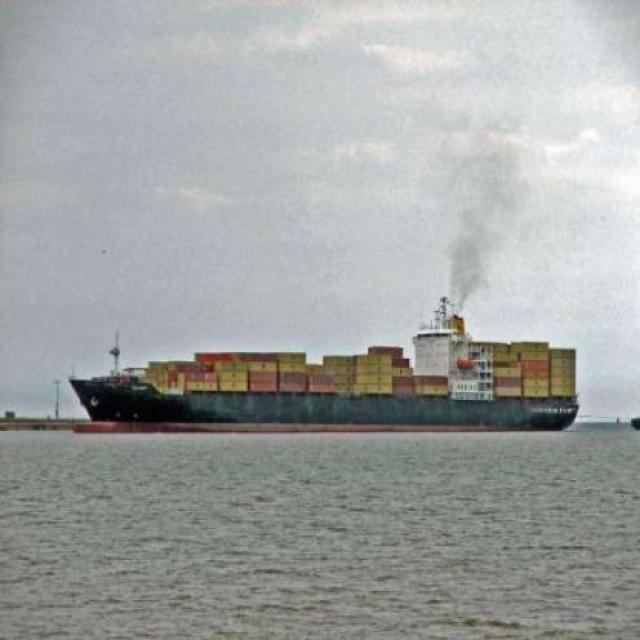boat: (49, 328, 588, 437)
